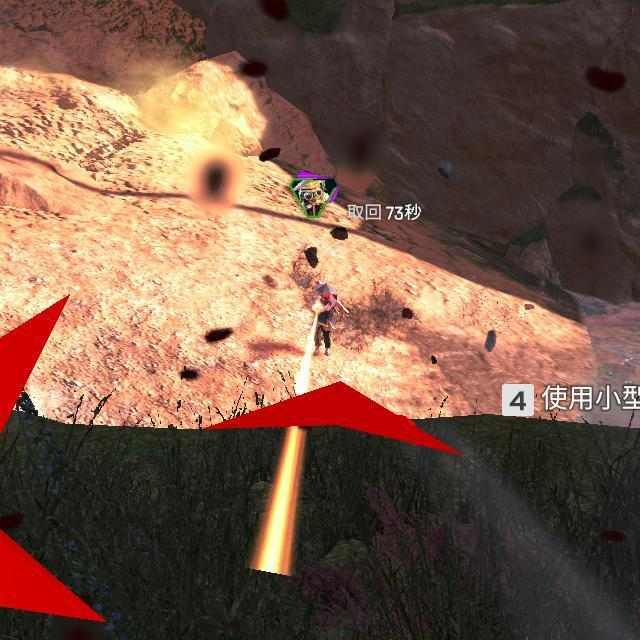avatar: (309, 280, 341, 357)
